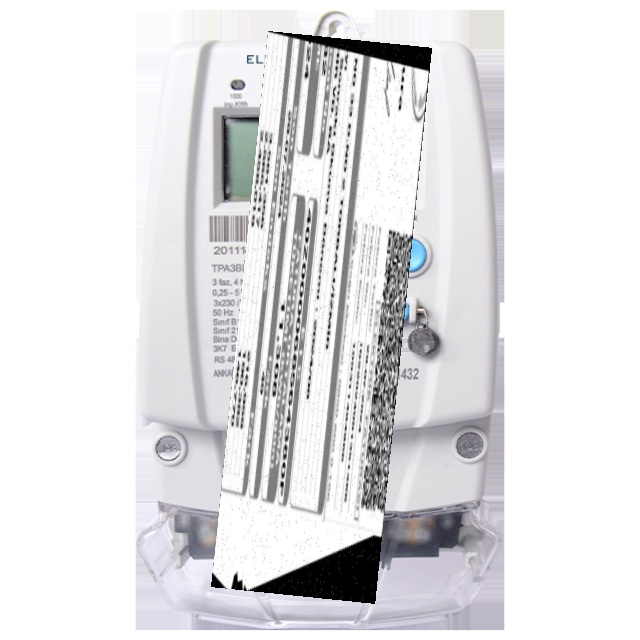electricity-bill: (211, 30, 432, 603)
